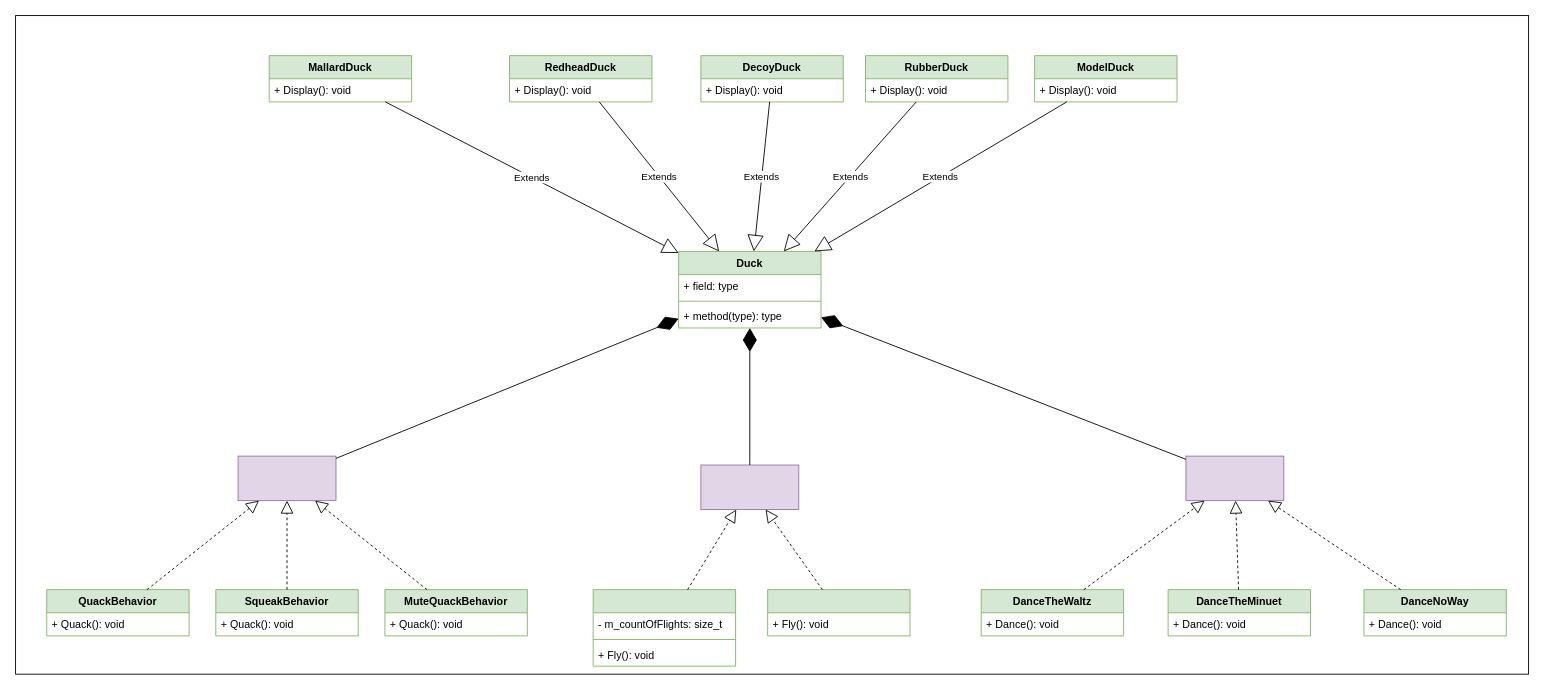
This 1544x690 diagram has some shape labels left out. Each missing label, with the box of its shape:
FlyNoWay: (767, 589, 910, 636)
FlyWithWings: (592, 589, 736, 666)
«interface» IDanceBehavior: (1185, 455, 1284, 501)
«interface» IFlyBehavior: (700, 464, 799, 510)
«interface» IQuackBehavior: (237, 455, 336, 501)
